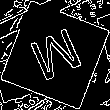M_SE: (24, 23, 86, 87)
